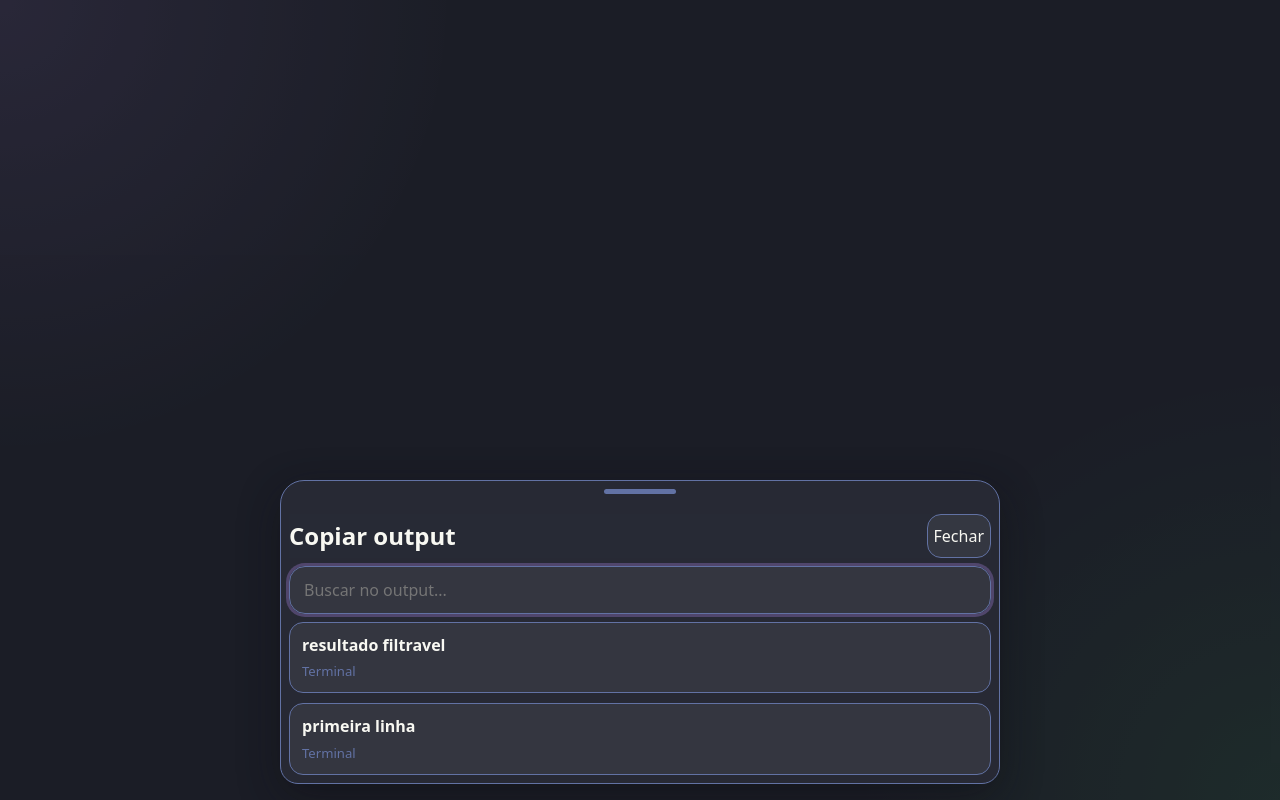
Test: CopyOutputSheet › shows the empty-state message when no lines match the term
Type "nao existe" into the search field at (640, 590), box top-left (289, 566), bottom-right (991, 614)
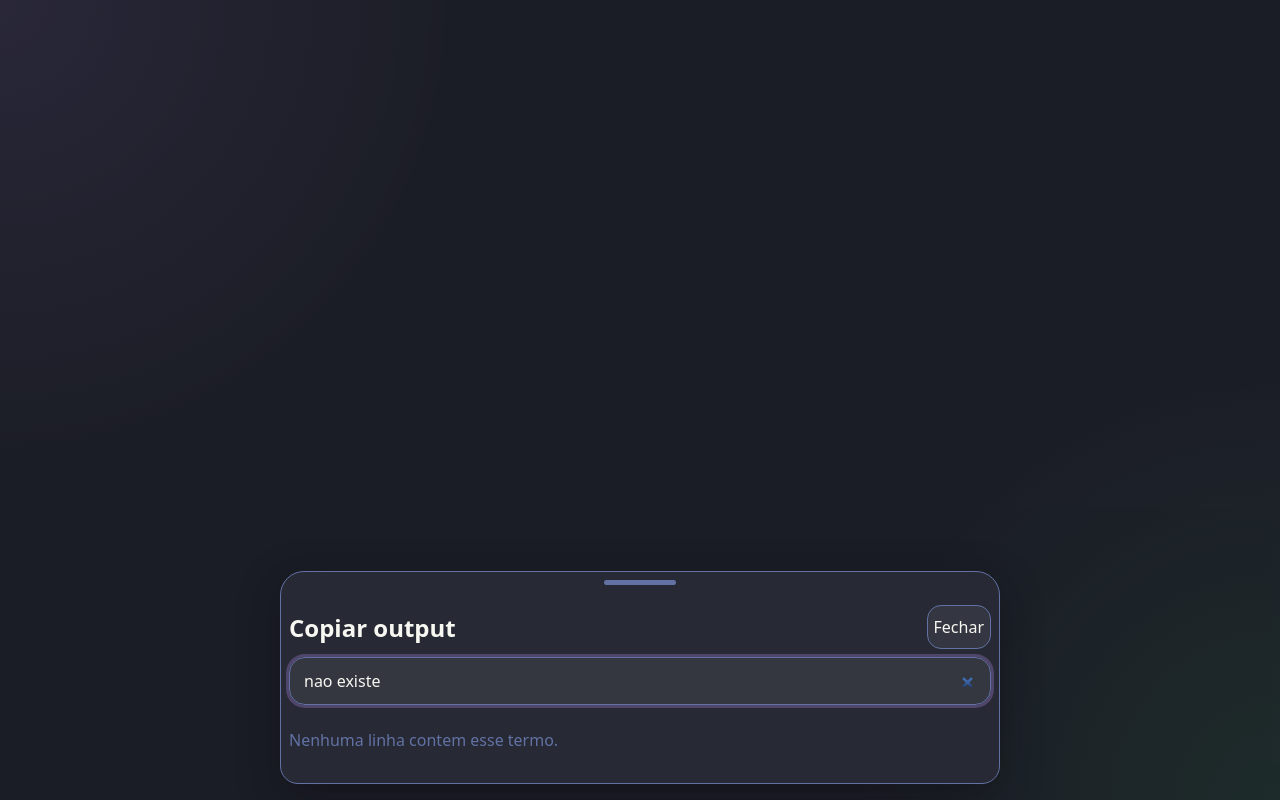
Expected: the text "Nenhuma linha contem esse termo." is shown, top-left (289, 729), bottom-right (558, 751)
